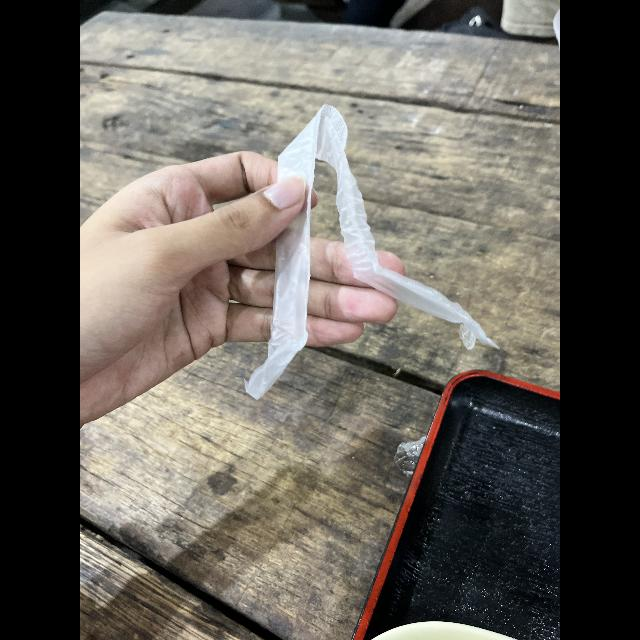scrap_plastic: (255, 98, 501, 398)
